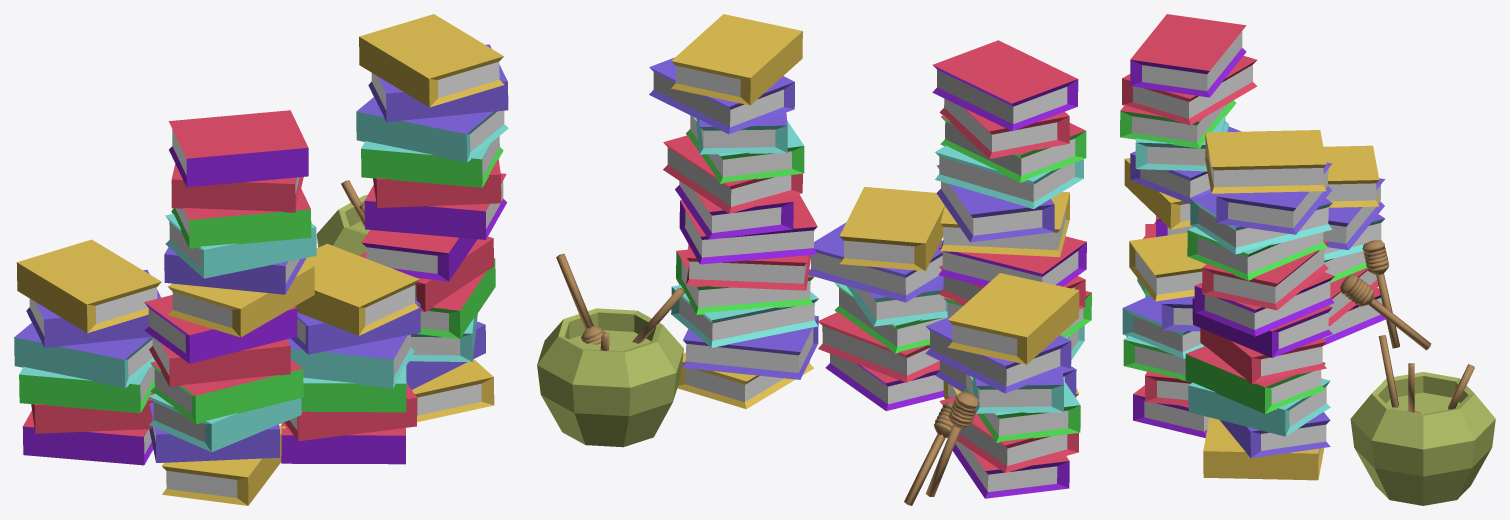
Rendered from Audtior Area.fbx.
The picture shows the model from 3 angles, left to right: view 1: azimuth 30°, elevation 25°; view 2: azimuth 150°, elevation 25°; view 3: azimuth 270°, elevation 25°; orthographic projection. The views are drawn at different scales.
Visible parts, largest first — view 1: Books/Pot; view 2: Books/Pot, Wonds; view 3: Books/Pot, Wonds.
Boxes of the visible parts, box(x1,y1,x2,y2) form: Books/Pot: box(14, 14, 508, 505); Books/Pot: box(537, 14, 1091, 498); Wonds: box(556, 253, 978, 505); Books/Pot: box(1120, 14, 1495, 505); Wonds: box(1340, 240, 1474, 413).
Bounding box in the file's own units: 290 × 195 × 205.
